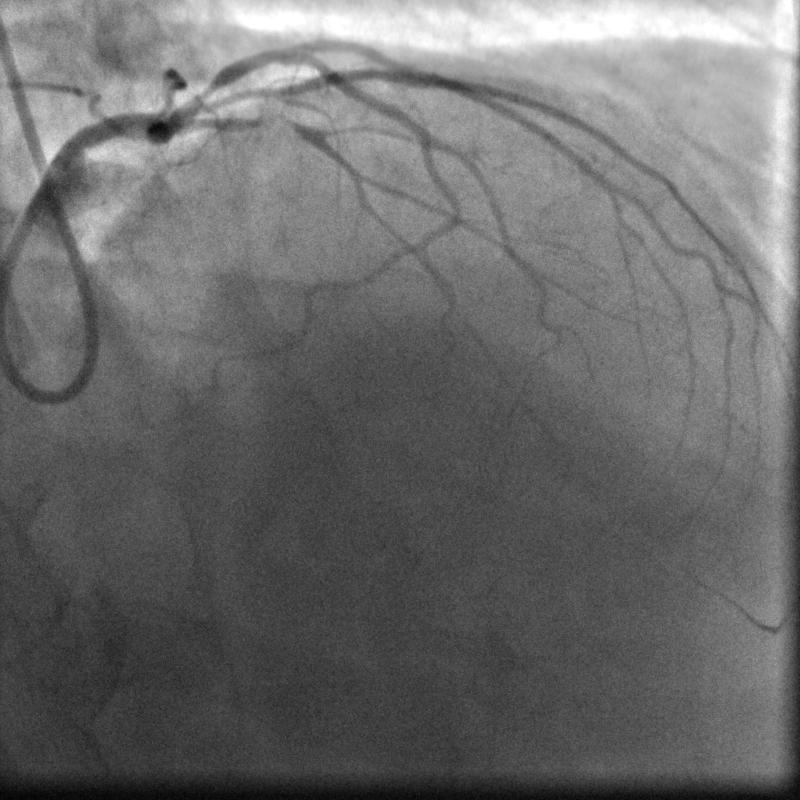Stenosis: (186, 78, 223, 110)
